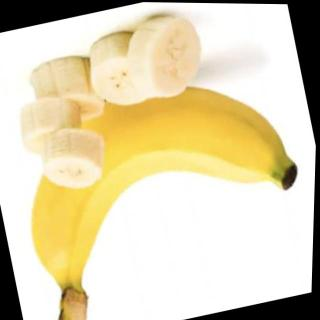banana: (1, 48, 316, 288)
